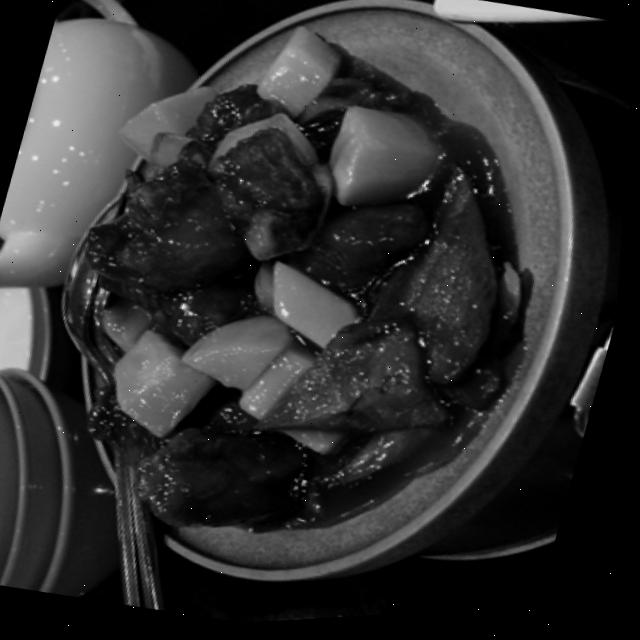猪肉菜式: (9, 0, 600, 596)
